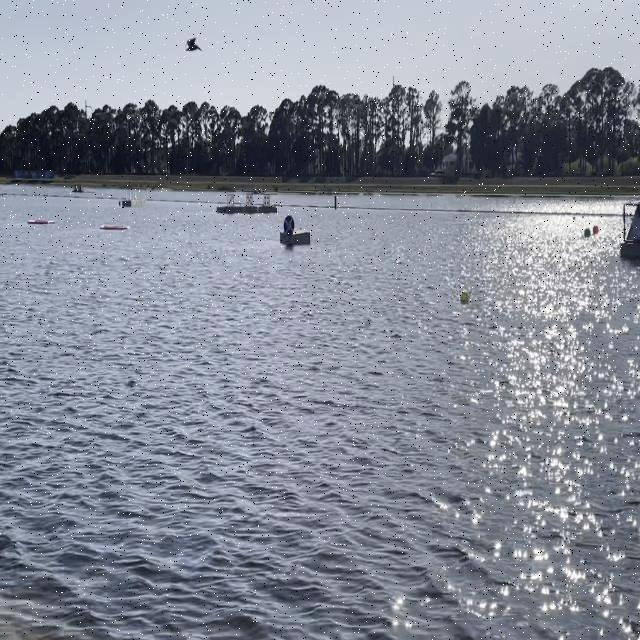buoy: (461, 288, 468, 302), (584, 227, 590, 239), (593, 224, 599, 234)
